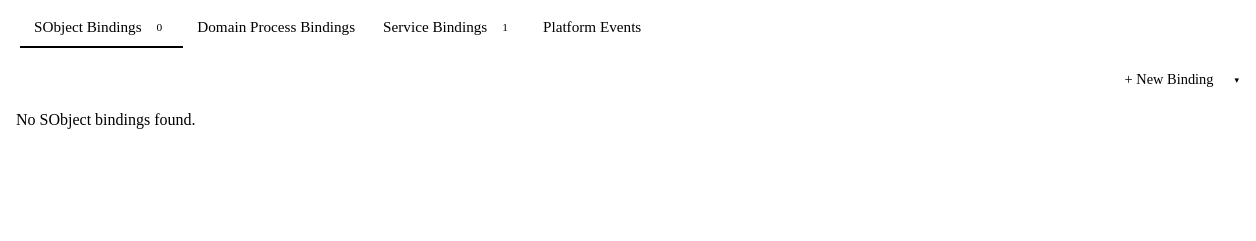
Scenario: App — Application Factory explorer › renders Service bindings on the Service Bindings tab, not the SObject Bindings tab
Expected: the text "PricingServiceImpl" is not shown
Click the tab "Service Bindings 1".
click(449, 28)  # box [369,8,529,48]
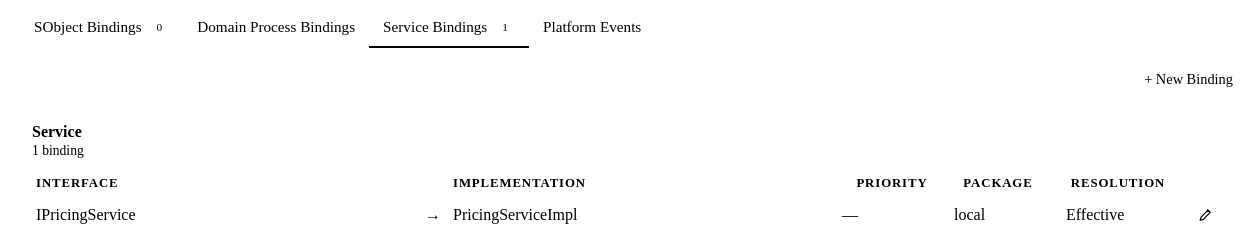
Now the button "PricingServiceImpl" is shown, box [453,206,577,223]
